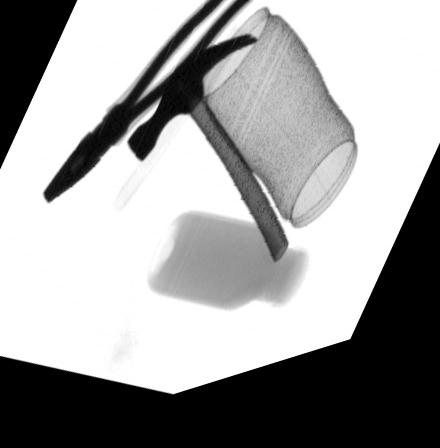Hammer: (125, 47, 289, 280)
Pliers: (43, 0, 256, 207)
